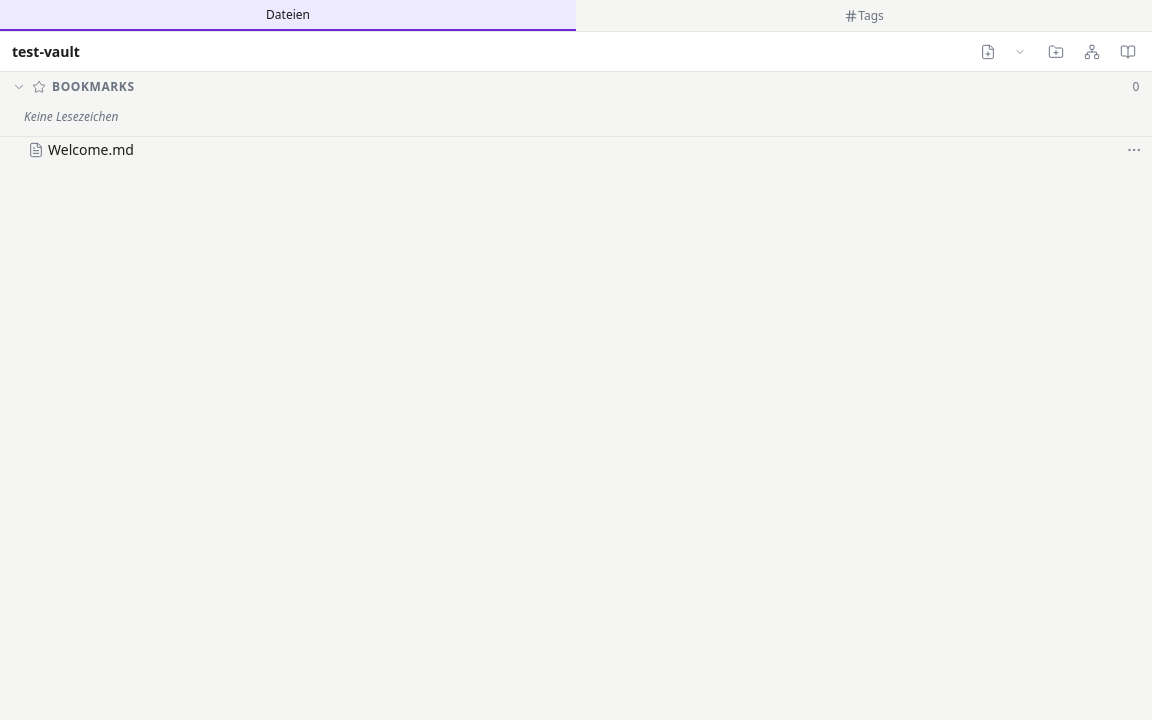
Test: Sidebar rename cascade survives tree re-flatten (#378) › opens the cascade dialog on rename and keeps it mounted across a watcher re-flatten
This screenshot has width=1152, height=720.
Right-click the button "Welcome.md" at (91, 150), box [0, 137, 1151, 162]
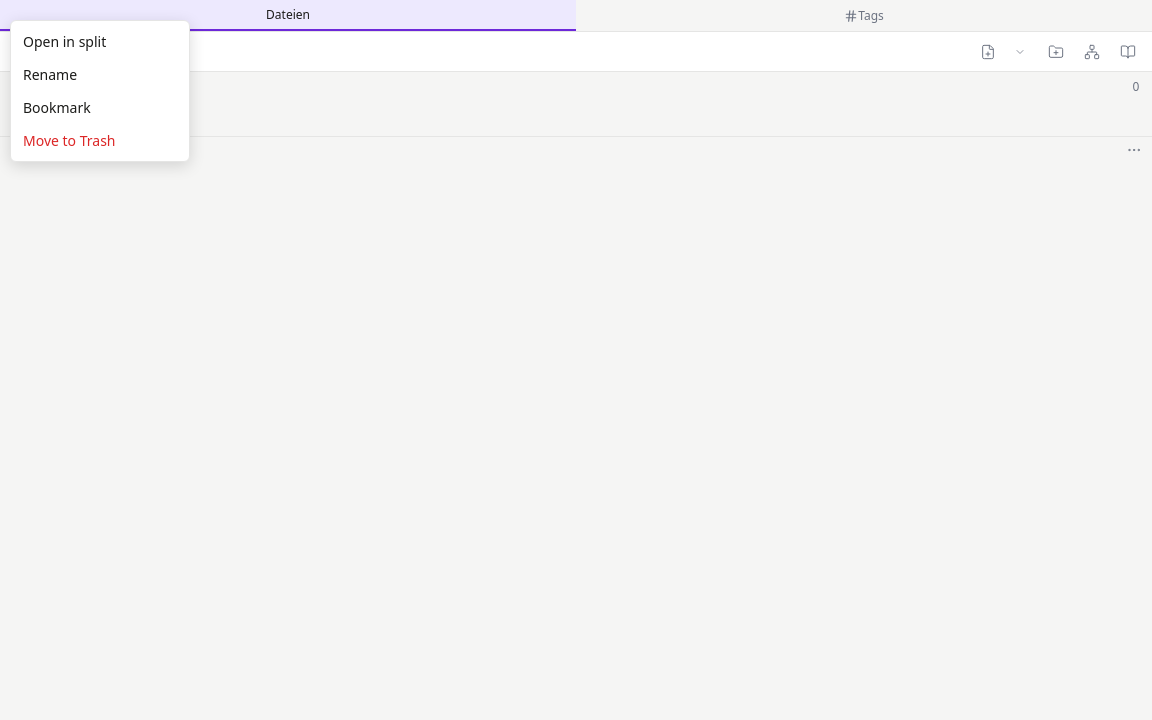
Now the button "Rename" is shown
Click the button "Rename". click: click(100, 74)
box: [11, 58, 189, 91]
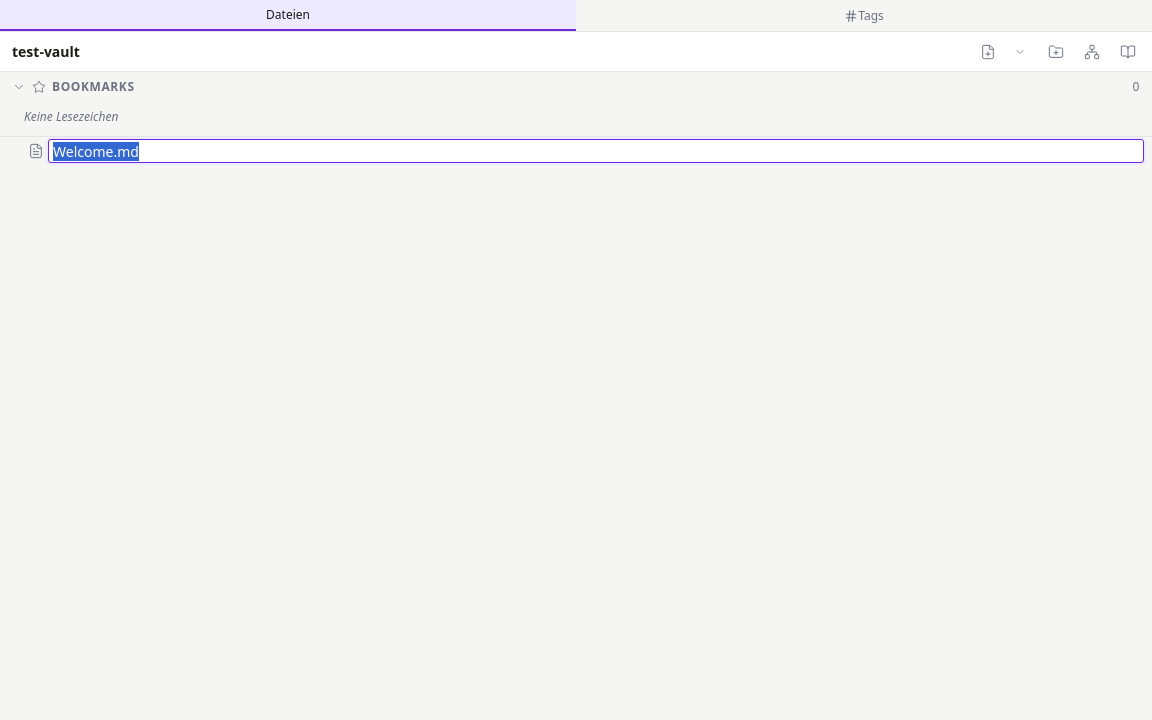
Now the field named "Rename file" is shown
Replace the text in the field named "Rename file" with "Welcome Renamed.md". click: (596, 151)
box: [48, 139, 1144, 163]
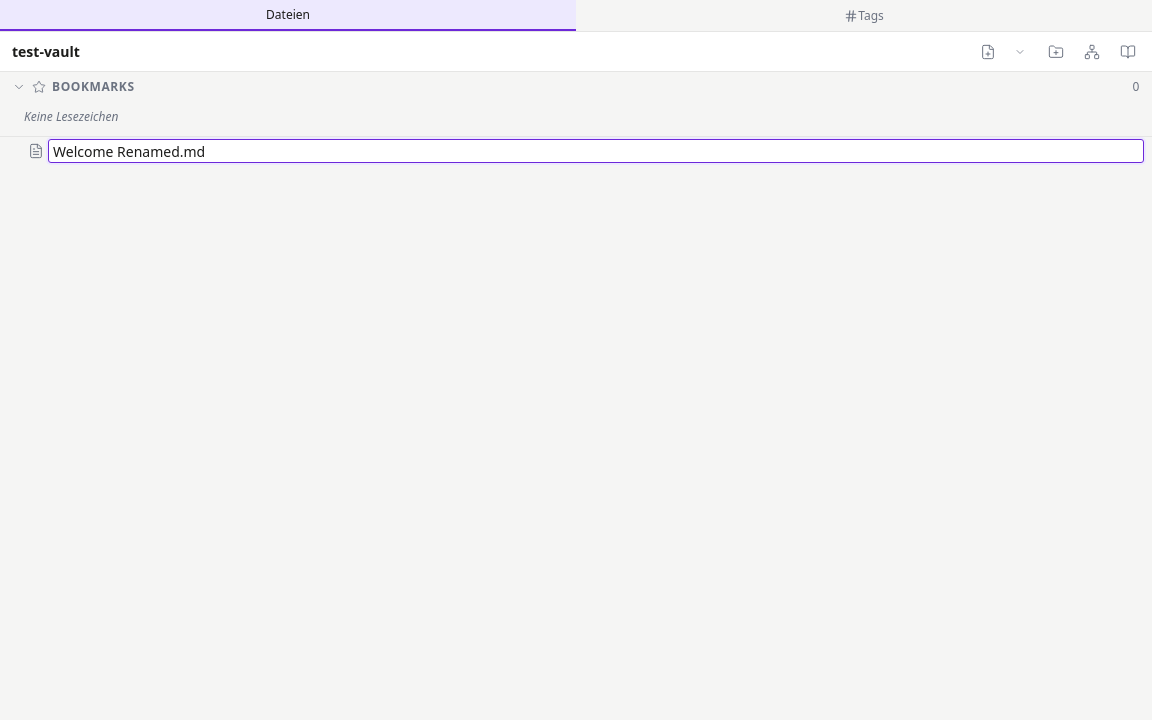
Press Enter in the field named "Rename file", box [48, 139, 1144, 163]
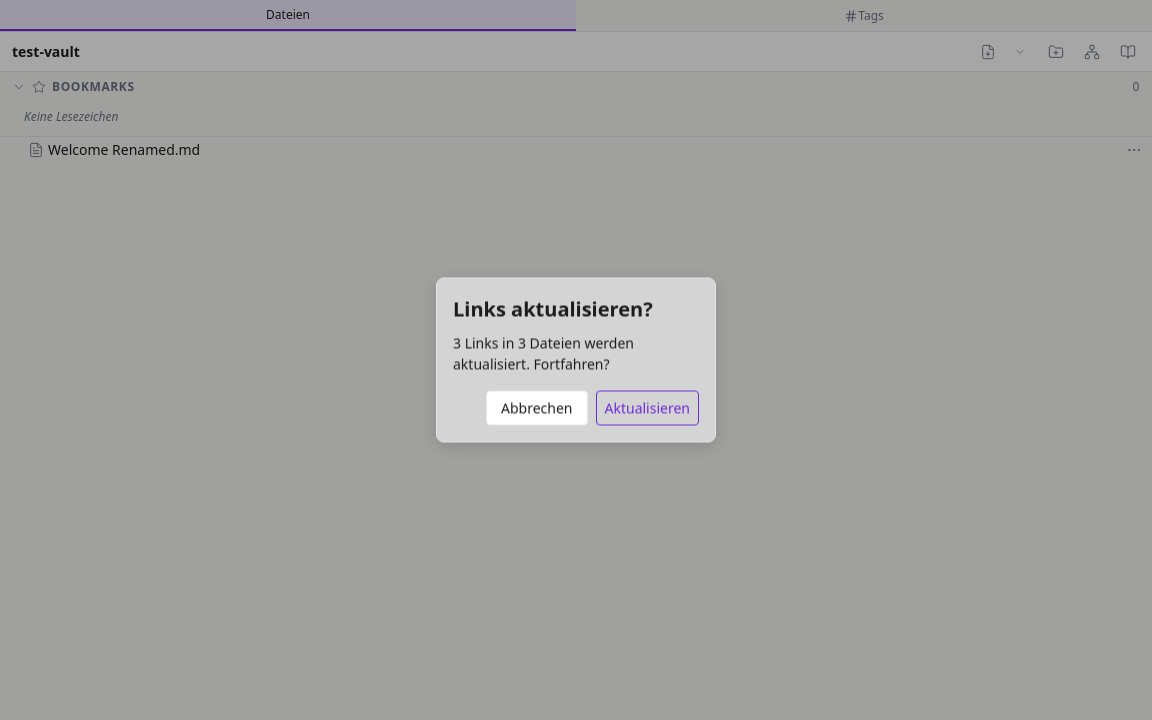
Now the dialog is shown, box [436, 278, 716, 442]
Now the text "3 Links in 3 Dateien werden aktualisiert. Fortfahren?" is shown, box [453, 334, 634, 374]
